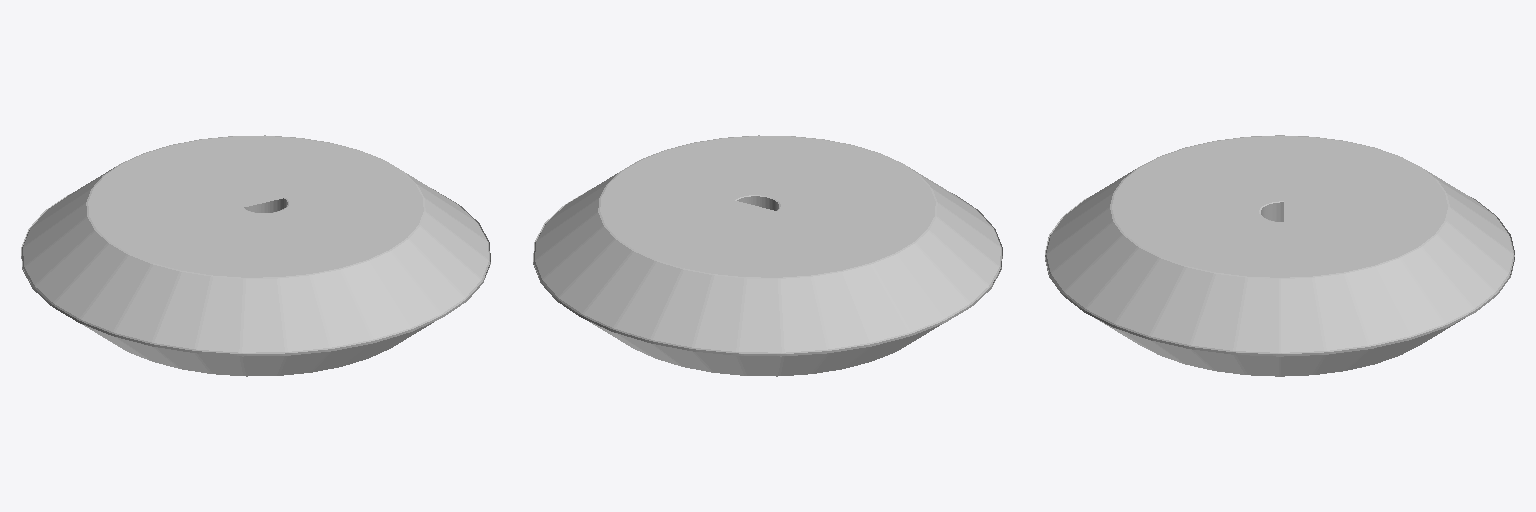
Rendered from gruz2.obj.
3 renders of one model, left to right at view 1: azimuth 30°, elevation 25°; view 2: azimuth 150°, elevation 25°; view 3: azimuth 270°, elevation 25°, orthographic.
Visible parts, largest first — view 1: Cylinder.017; view 2: Cylinder.017; view 3: Cylinder.017.
Boxes of the visible parts, box(x1,y1,x2,y2) form: Cylinder.017: box(21, 135, 490, 376); Cylinder.017: box(533, 135, 1002, 376); Cylinder.017: box(1045, 135, 1514, 376).
Size of the model in its own units: 0.6534 by 0.1505 by 0.6534.